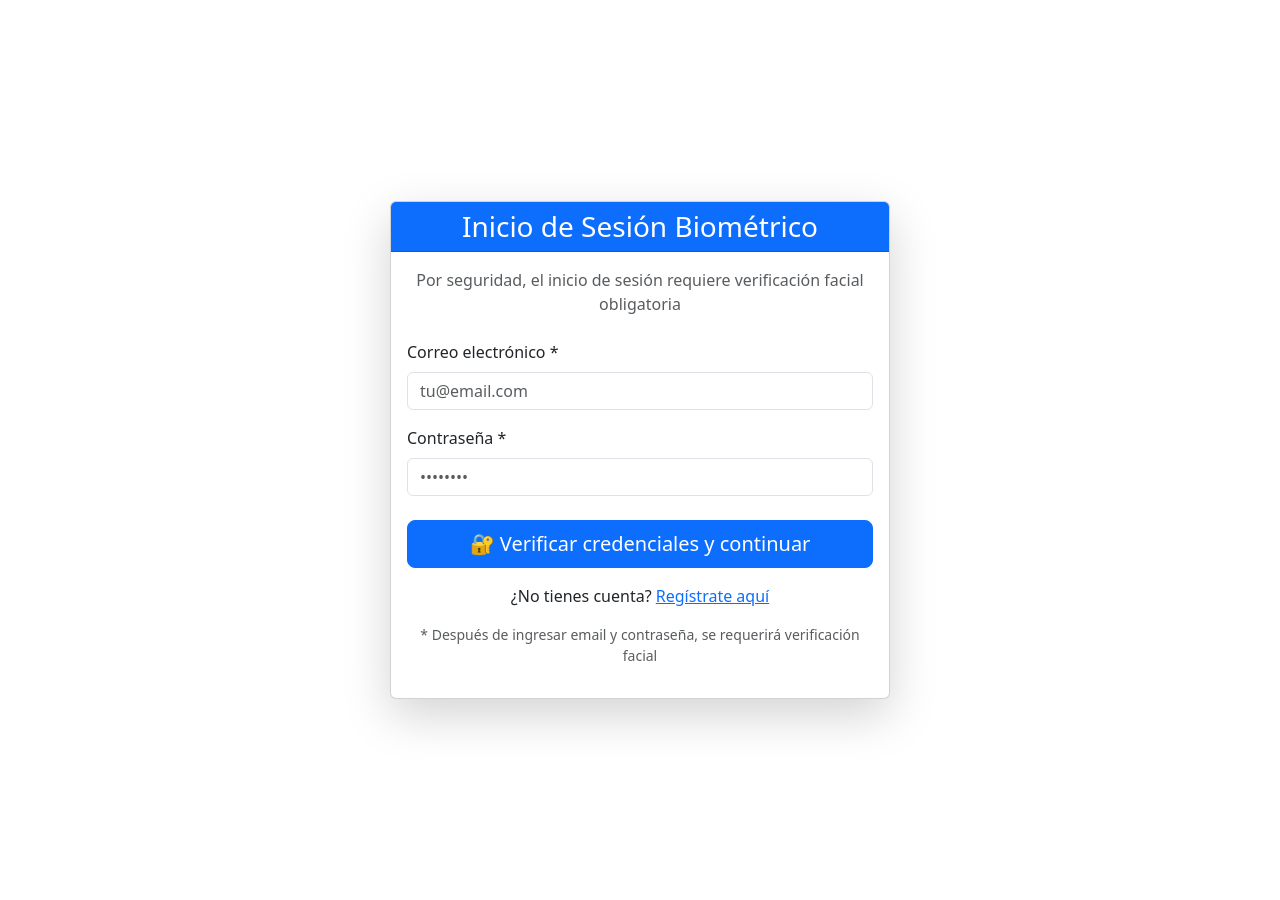
Test: Login component › envía credenciales y muestra modal de éxito cuando el backend pide verificación facial
In the field labelled "Correo electrónico *": (640, 391) [407,372,873,410], type "test@test.com"
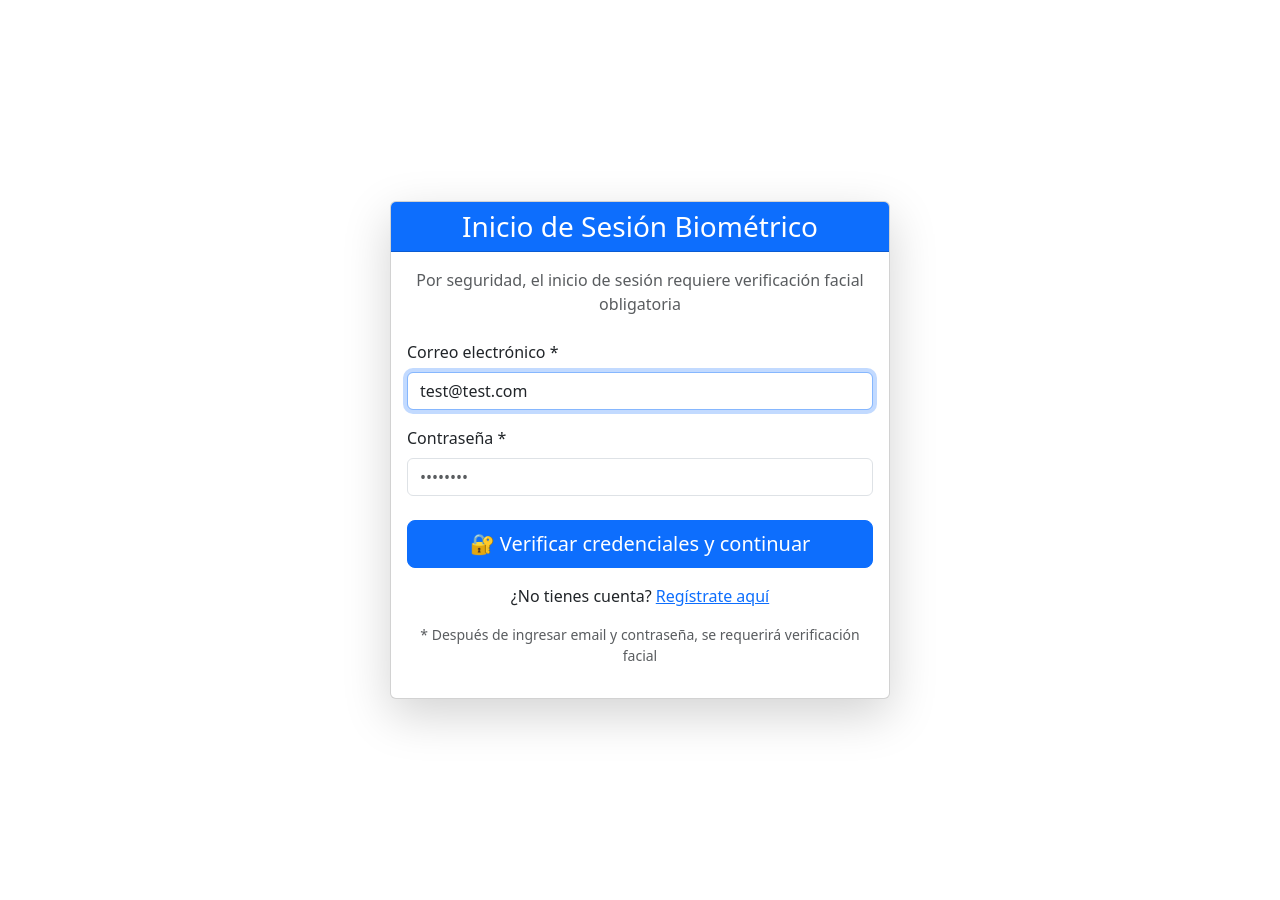
In the password field labelled "Contraseña *": (640, 477) [407,458,873,496], type "password123"
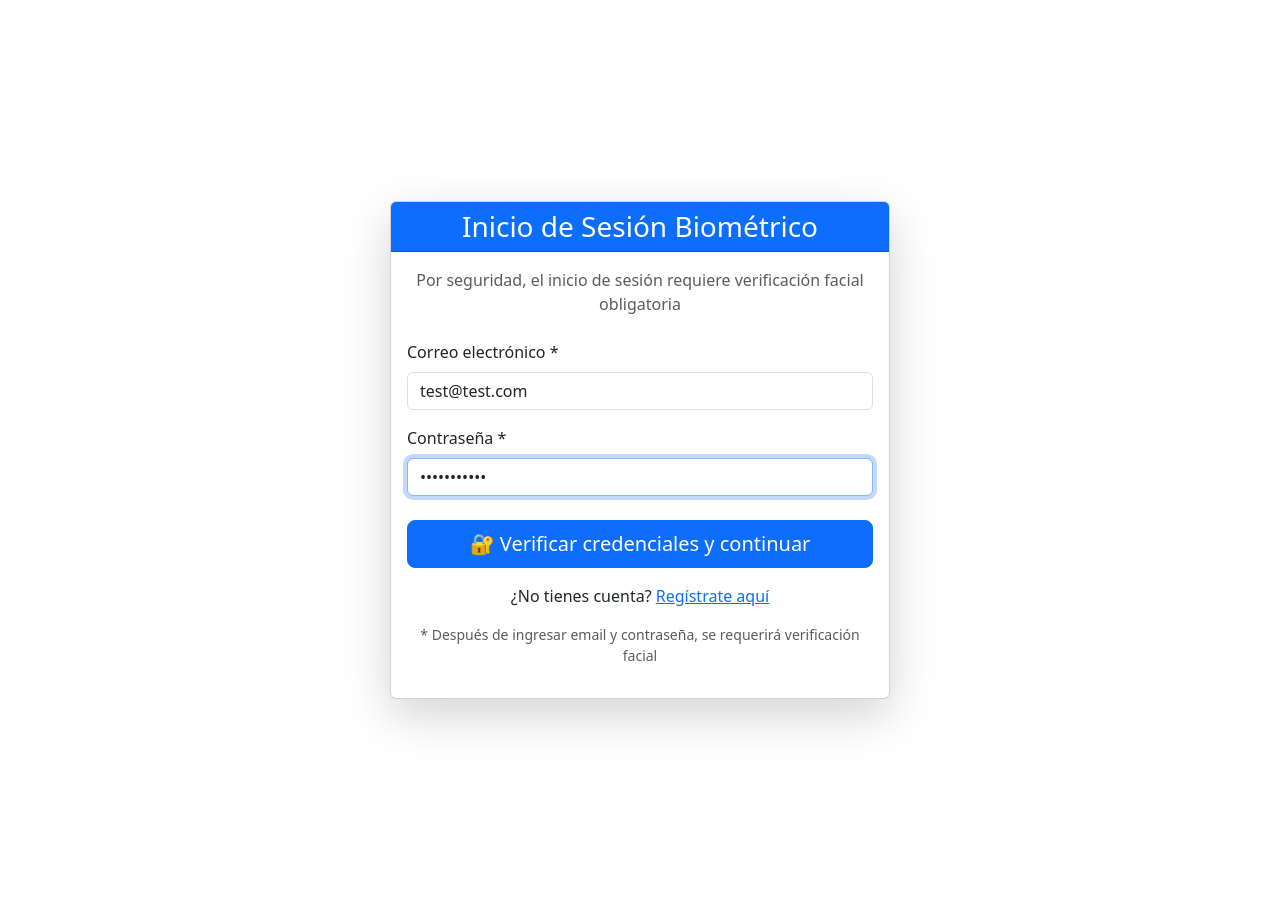
Click the button "🔐 Verificar credenciales y continuar": (640, 544) [407,520,873,568]
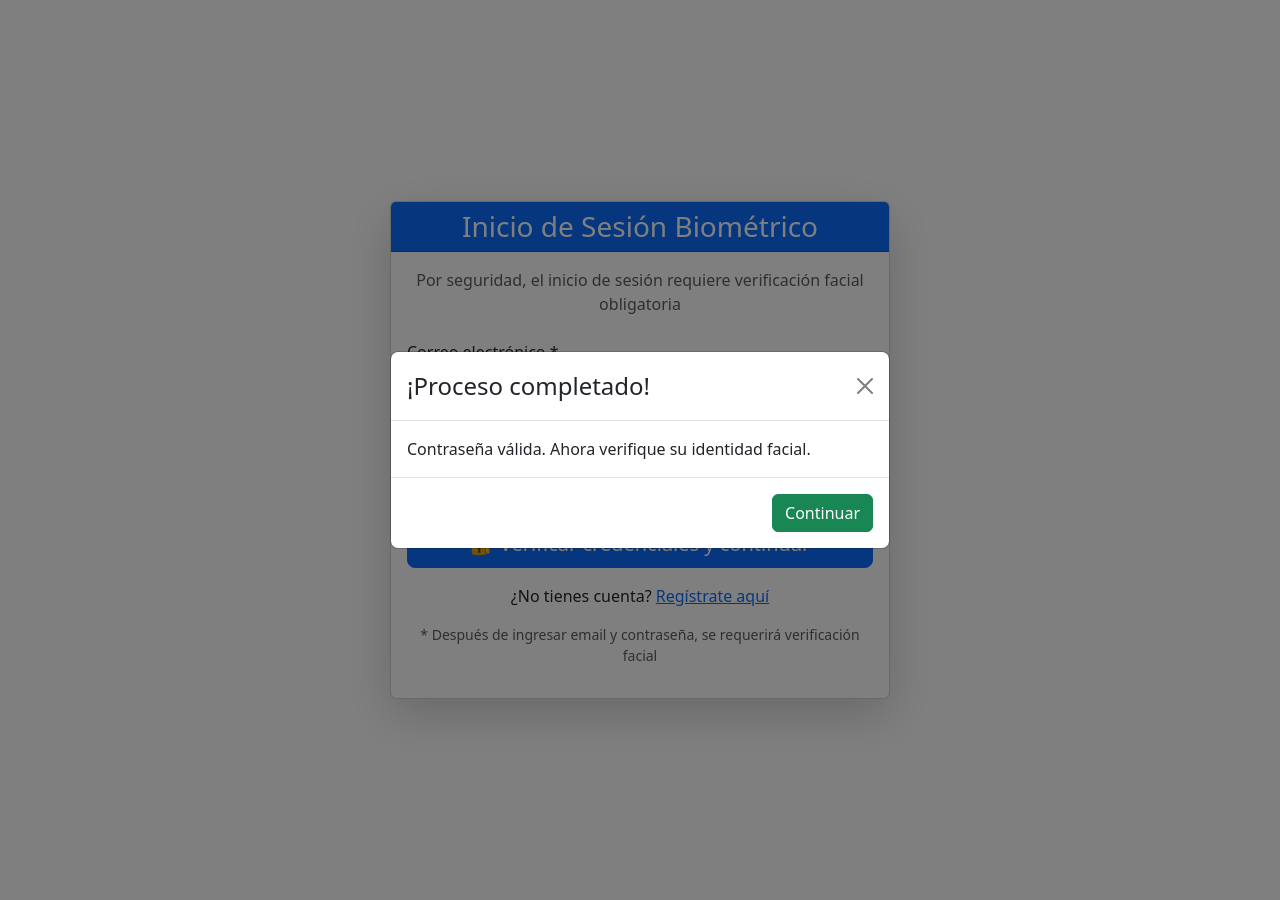
Check: the text "Contraseña válida. Ahora verifique su identidad facial." is shown, box [407,438,811,460]
